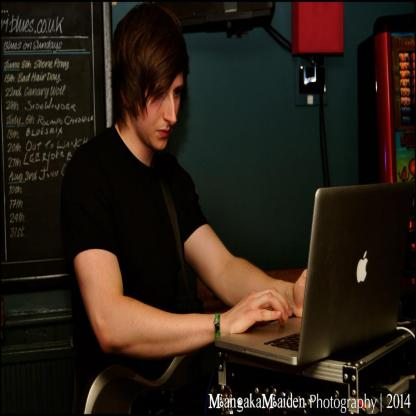board: (215, 181, 414, 364)
